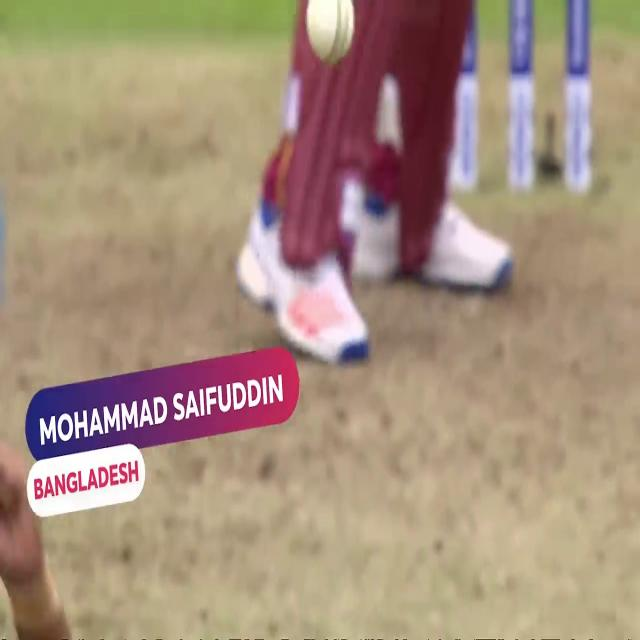ball: (302, 1, 364, 61)
